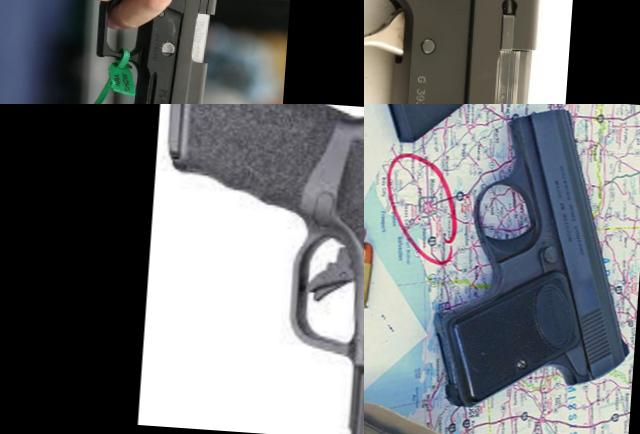handgun: (143, 104, 364, 434), (422, 104, 640, 420), (0, 0, 242, 104), (364, 0, 579, 104)
